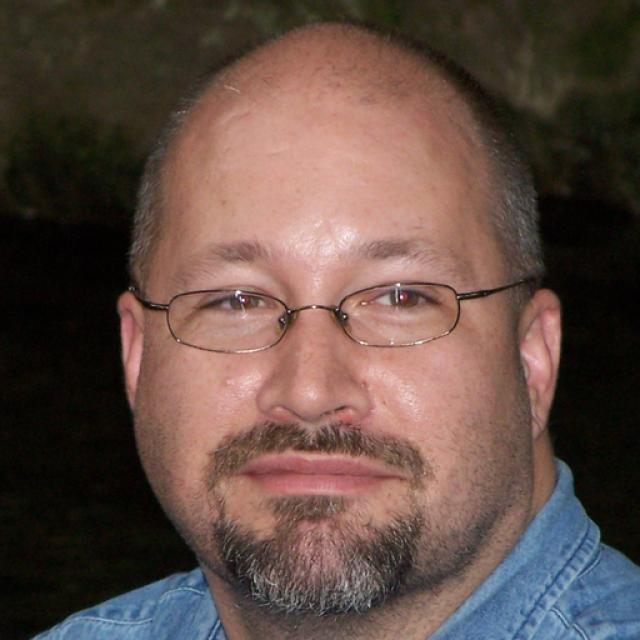Acne: (215, 371, 236, 393), (360, 402, 379, 418), (359, 376, 368, 393)
